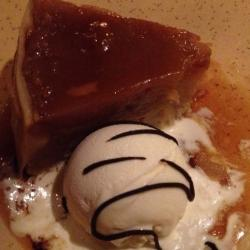apple_pie: (10, 2, 218, 163)
icecream: (47, 118, 197, 244)
